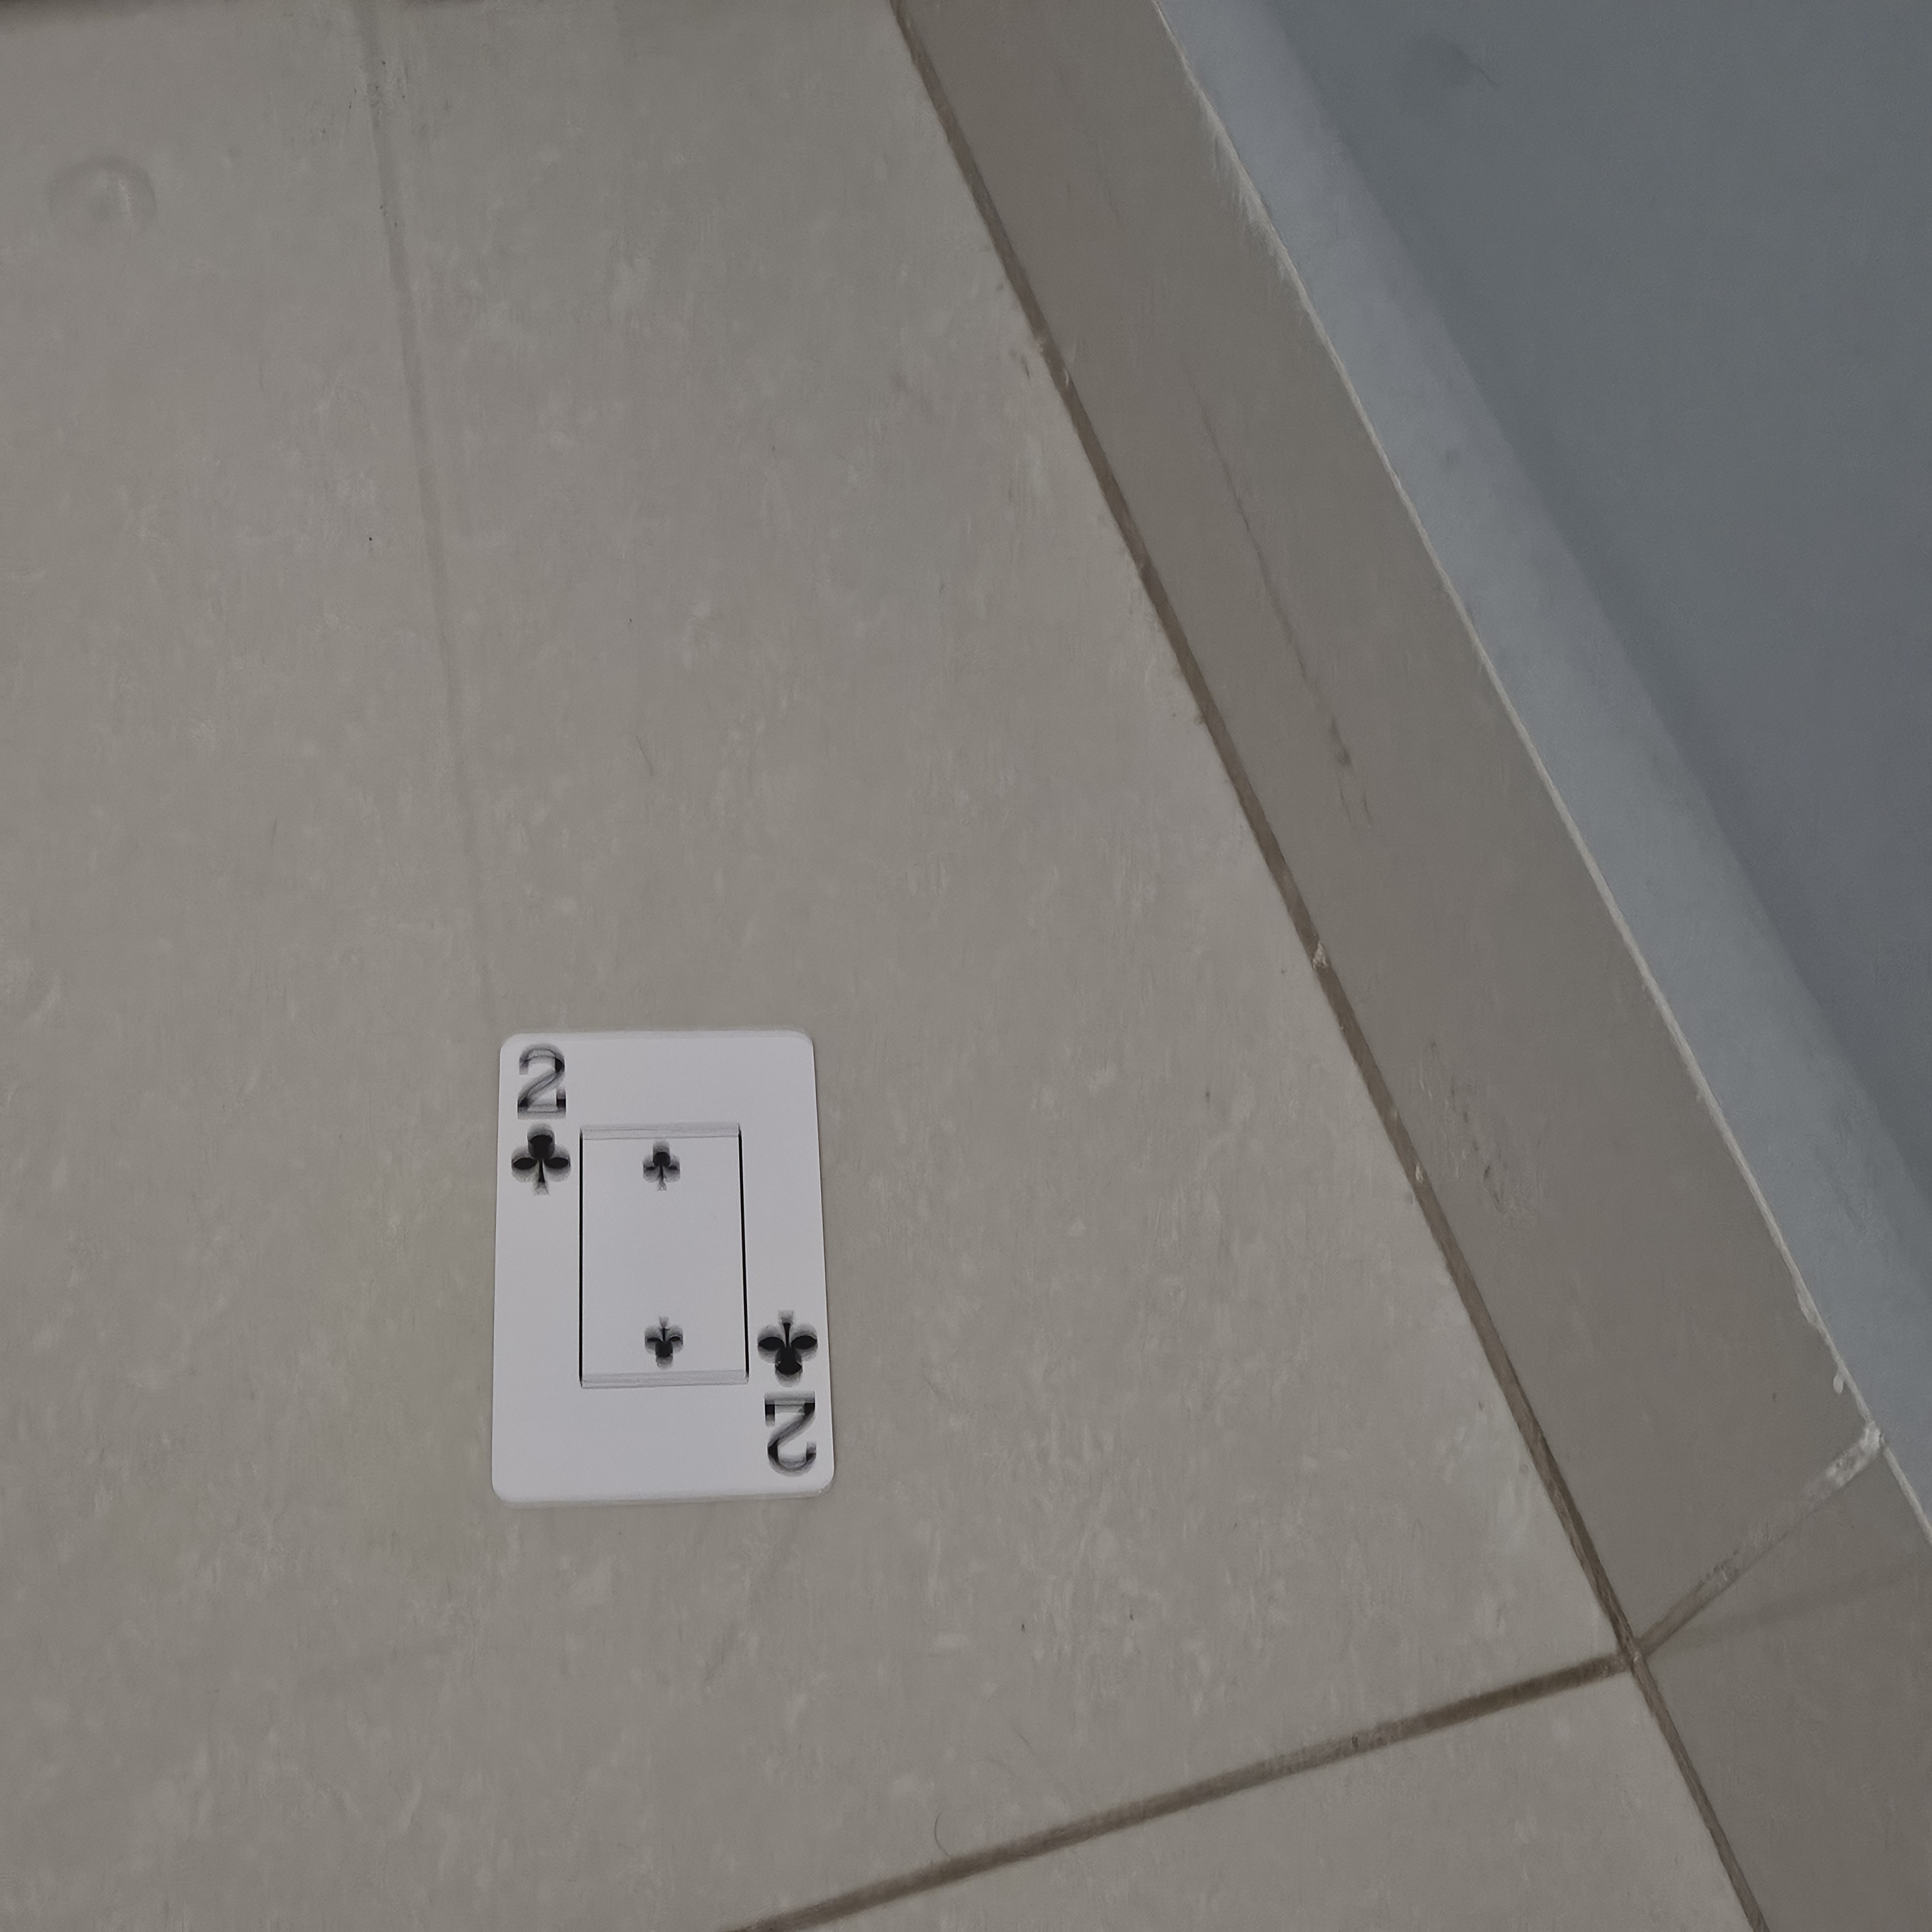2P: (741, 1295, 833, 1488), (495, 1033, 586, 1207)
